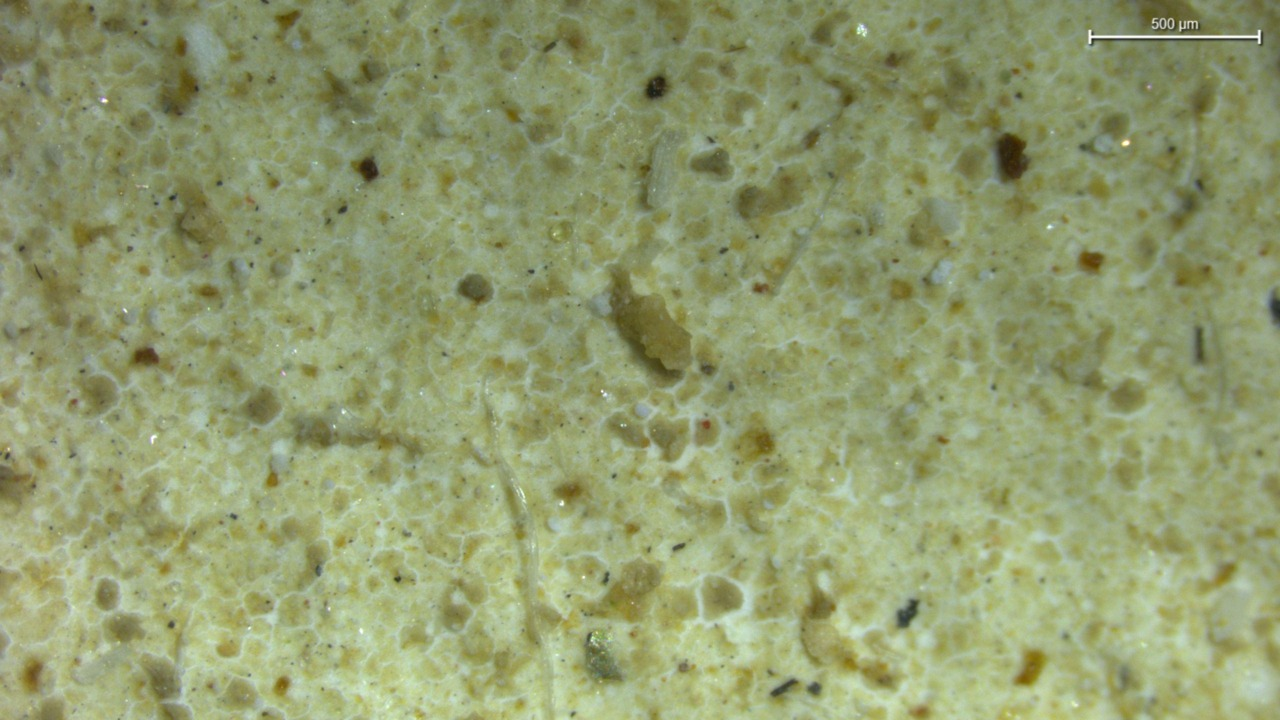microplastic_fragment: (609, 266, 692, 370), (646, 130, 682, 208), (924, 197, 962, 235), (925, 259, 953, 285)
